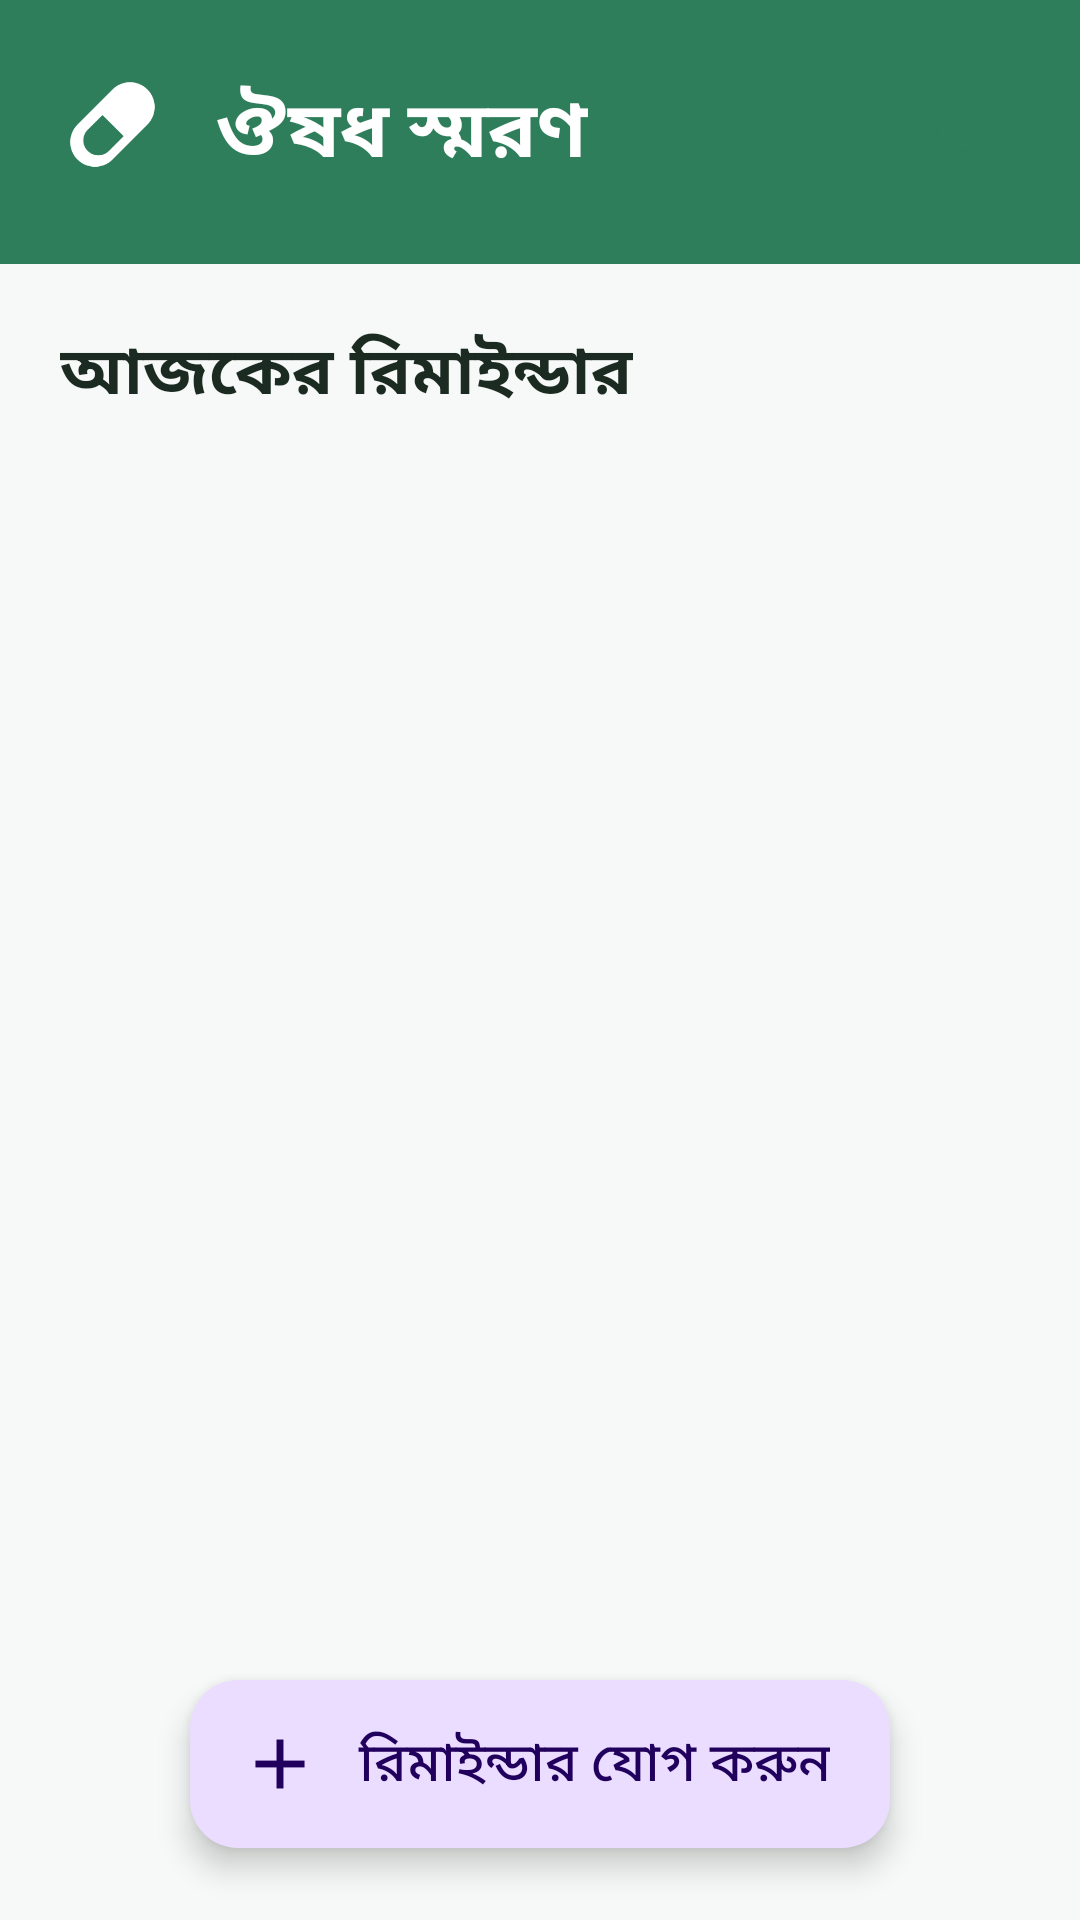

Named icons in this screenshot (1080×1920) and their bounding boxes, (x1, y1, x2, y2):
pill: (70, 82, 155, 167)
